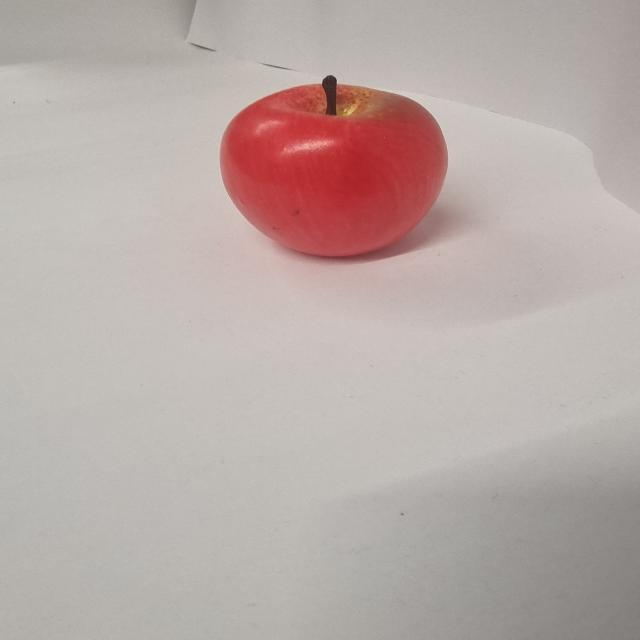apple: (218, 73, 448, 258)
